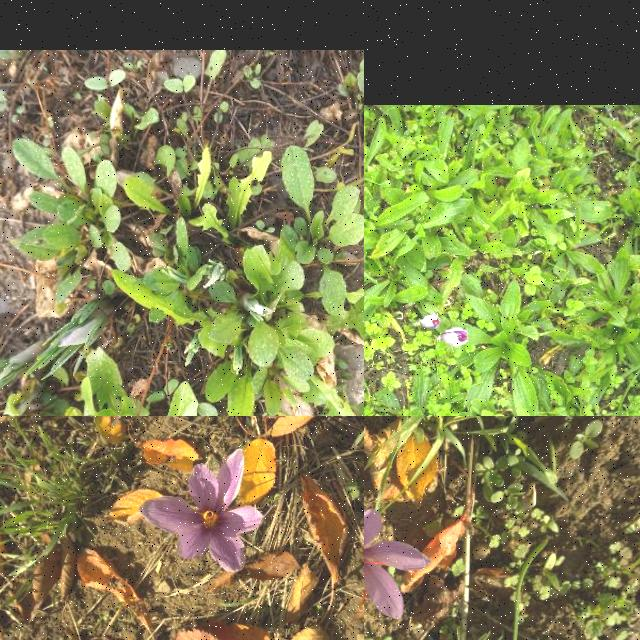flower: (140, 450, 264, 572), (364, 509, 427, 640), (444, 328, 468, 346), (420, 313, 440, 331)
